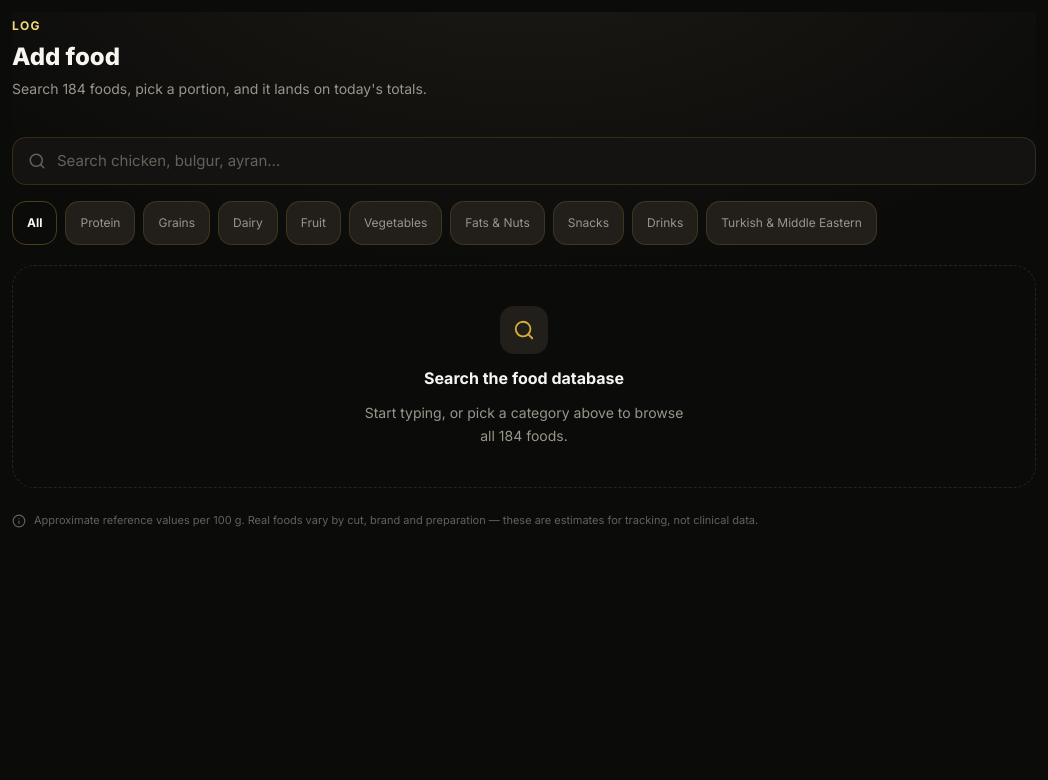
Test: LogScreen — the headline flow: search, portion, add › opens a portion step showing macros scaled to the chosen weight
Type "chicken breast" into the search field named "search foods" at (524, 161), box left=12, top=137, right=1036, bottom=185
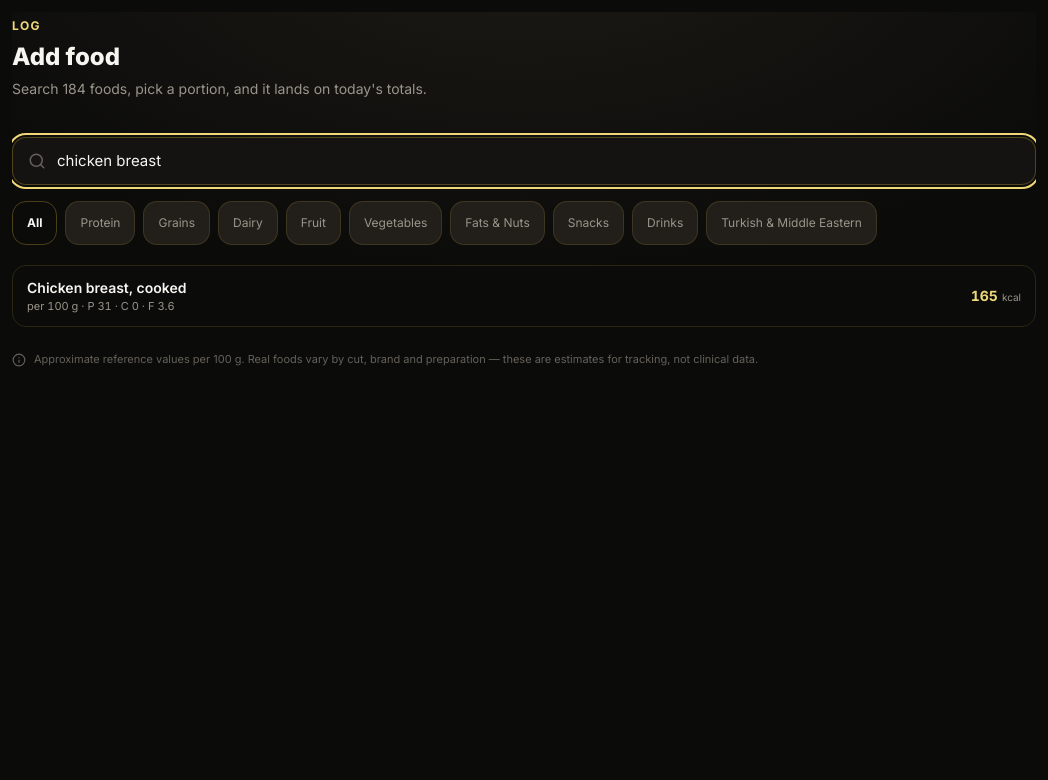
Click the button "Chicken breast" at (107, 287), box left=12, top=265, right=1036, bottom=327
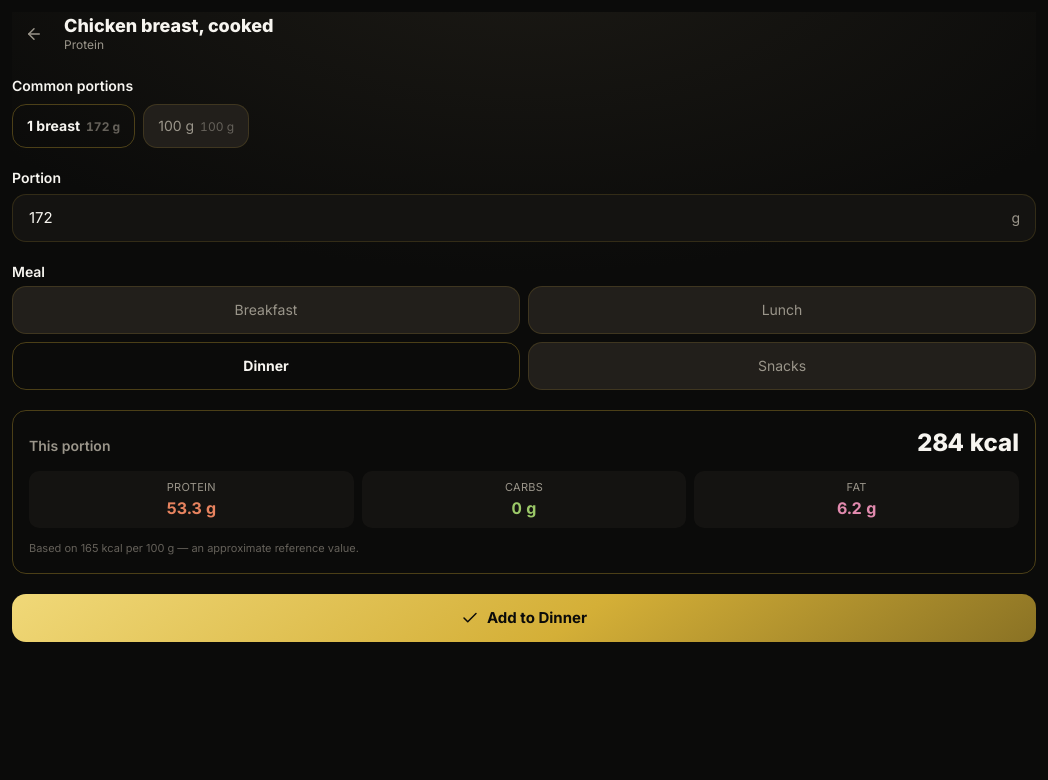
Expected: the heading "Chicken breast, cooked" is shown, left=64, top=15, right=274, bottom=37
Expected: the button "1 breast172 g" is shown, left=12, top=104, right=135, bottom=148
Expected: the text "284 kcal" is shown, left=917, top=427, right=1019, bottom=459
